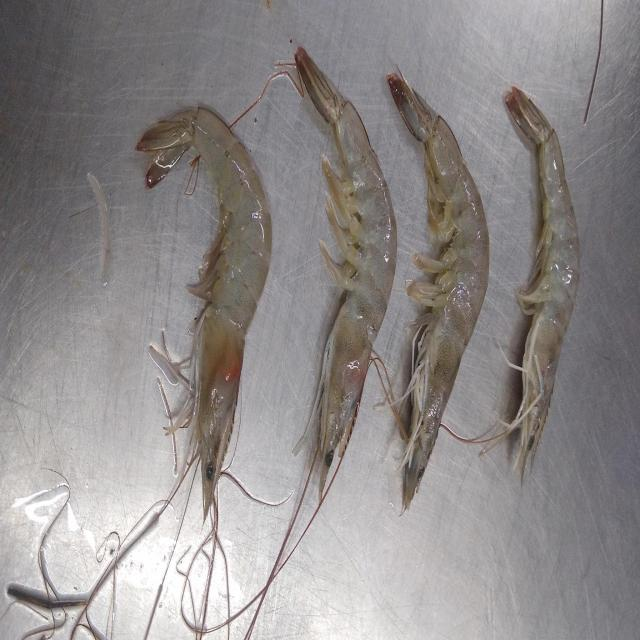shrimp: (136, 107, 271, 518), (294, 47, 398, 498), (388, 73, 489, 513), (494, 87, 580, 480)
